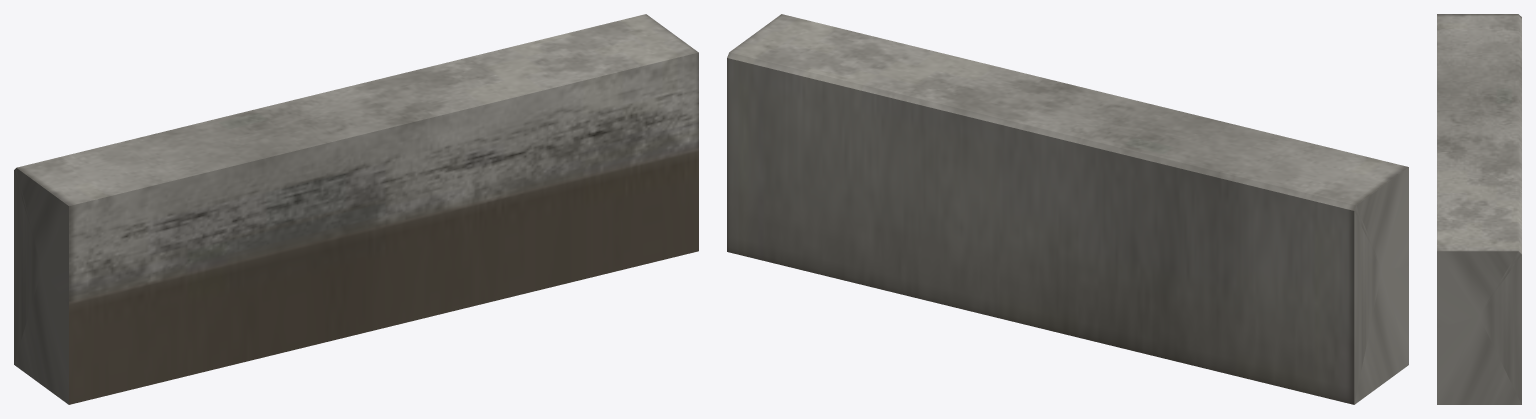
File: curb_straight_lod2_web.glb
3 renders of one model, left to right at view 1: azimuth 30°, elevation 25°; view 2: azimuth 150°, elevation 25°; view 3: azimuth 270°, elevation 25°, orthographic. The views are drawn at different scales.
Parts seen in each view (by area): view 1: curb_straight_Mesh; view 2: curb_straight_Mesh; view 3: curb_straight_Mesh.
Part boxes in pixels (x1,y1,x2,y2): curb_straight_Mesh: [14, 14, 698, 404]; curb_straight_Mesh: [727, 14, 1408, 404]; curb_straight_Mesh: [1437, 14, 1521, 404].
Bounding box in the file's own units: 0.995 × 0.3 × 0.15.
1 material, 1 textured.
